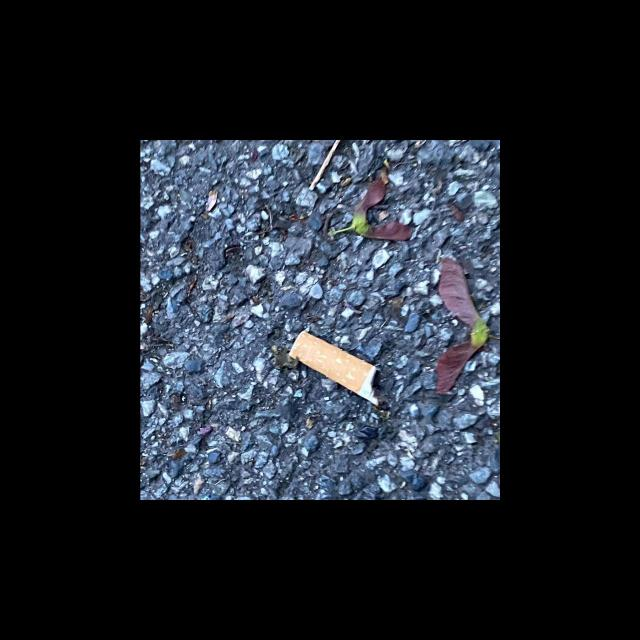cigarette: (287, 330, 384, 408)
